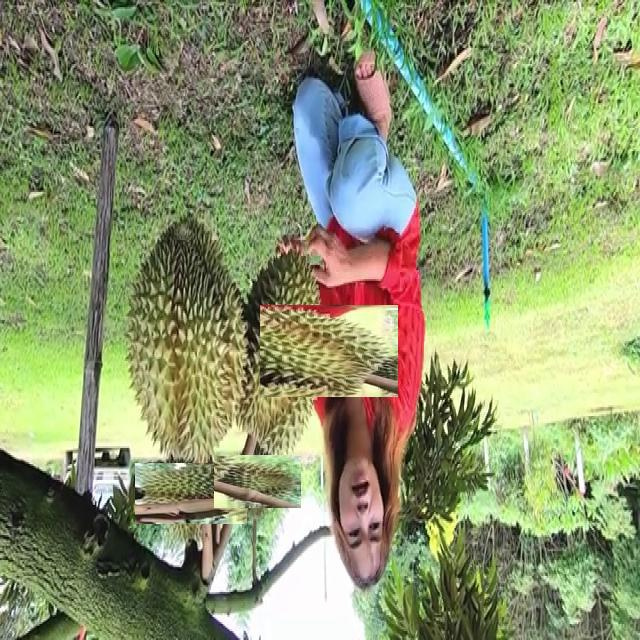durian: (121, 208, 260, 468), (199, 270, 362, 433), (148, 450, 235, 537), (222, 446, 292, 517)
